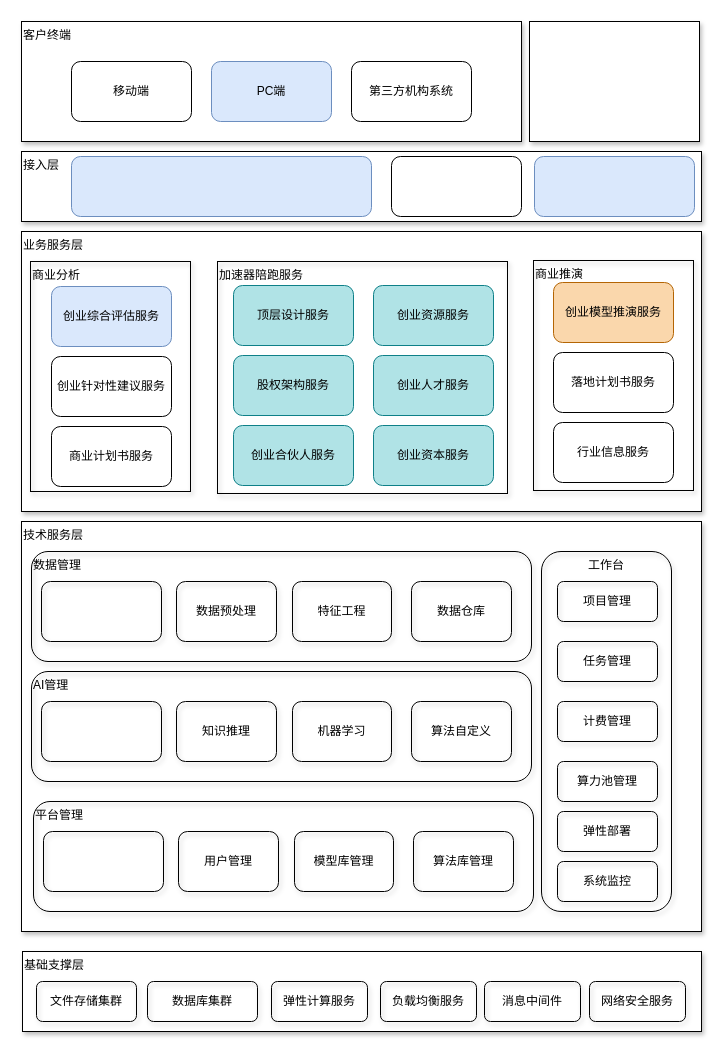
Some shapes in this 725 by 1056 pixel diagram are drawn without their labels. The shapes that lost their labels are listed below. From the top down, each one's centre as x and y in pixels, then its label:
At [615,82]: "系统管理人员终端".
At [221,186]: "开放平台网关".
At [456,186]: "外部开放平台 SDK网关".
At [614,186]: "管理控制台网关".
At [102,612]: "数据接入".
At [102,732]: "知识图谱".
At [104,862]: "数据资产管理".
